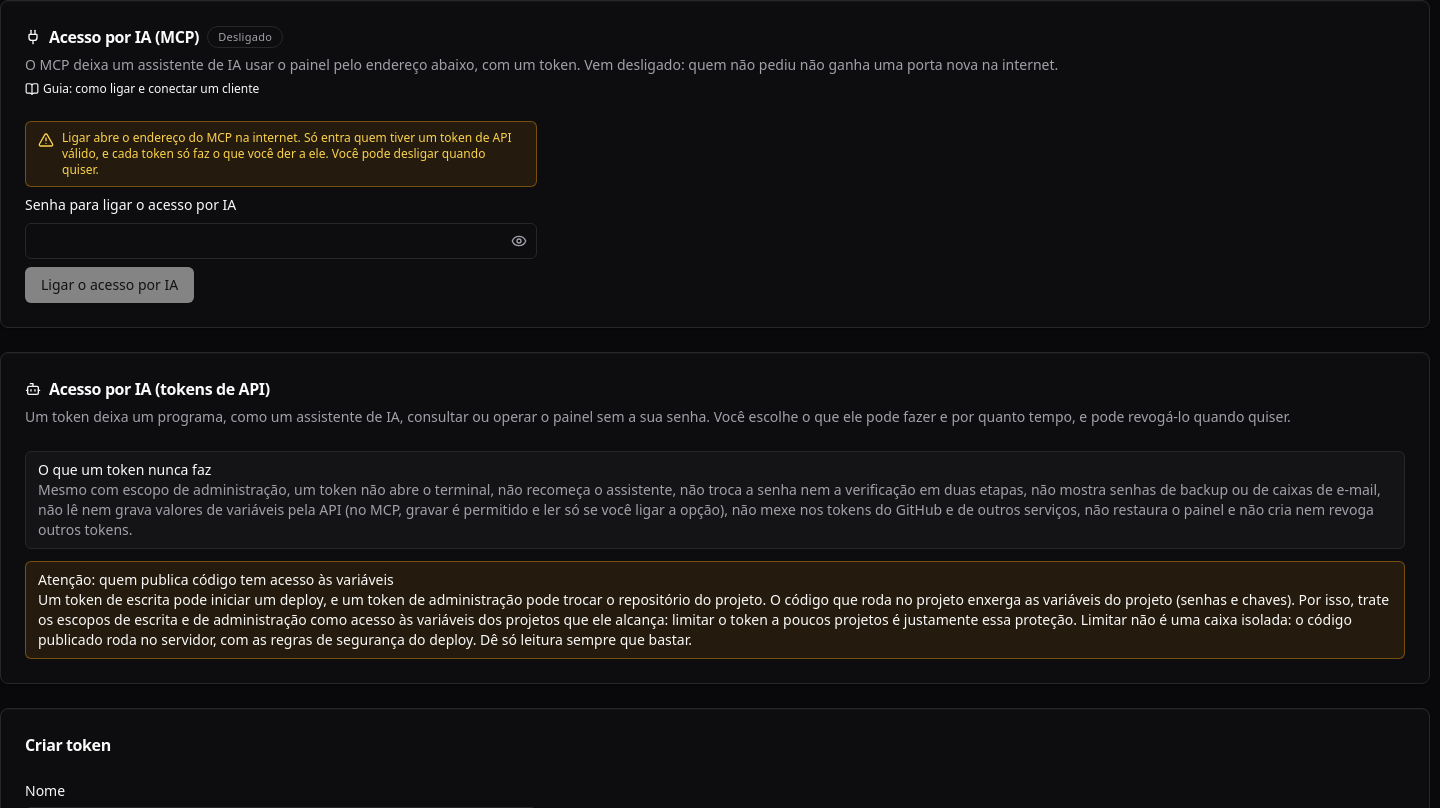
Test: MCP: liga e desliga › vem desligado, com aviso, e ligar pede a senha
This screenshot has width=1440, height=808.
Expected: the text "Desligado" is shown, [207,26,283,48]
Expected: the text "abre o endereço do MCP na internet" is shown, [62,129,512,178]
Step 1. Type "MinhaSenha123" into the password field labelled "Senha para ligar o acesso por IA" → [281, 241], box [25,223,537,259]
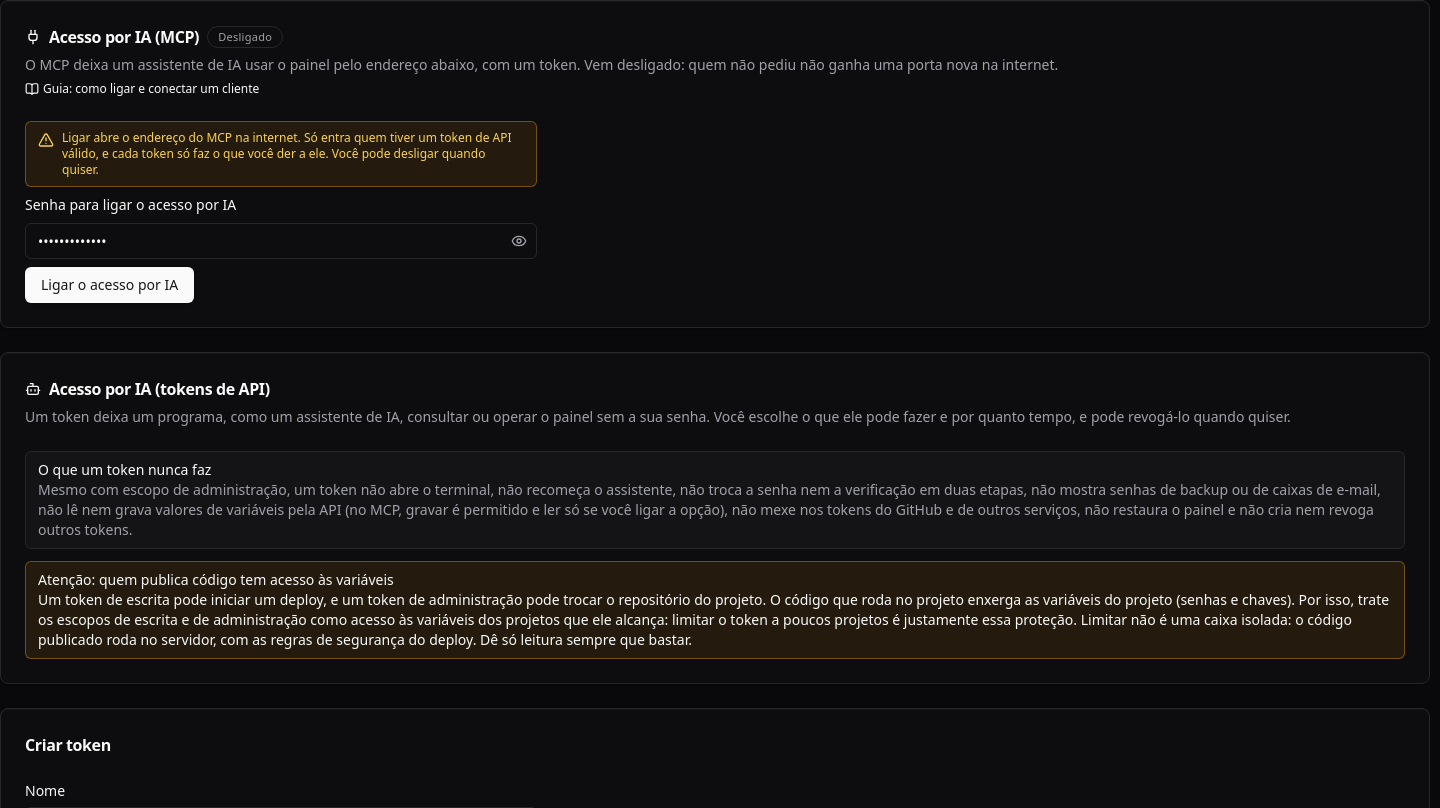
Expected: the button "Ligar o acesso por IA" is enabled
Step 2. Click the button "Ligar o acesso por IA" → [110, 285], box [25,267,194,303]
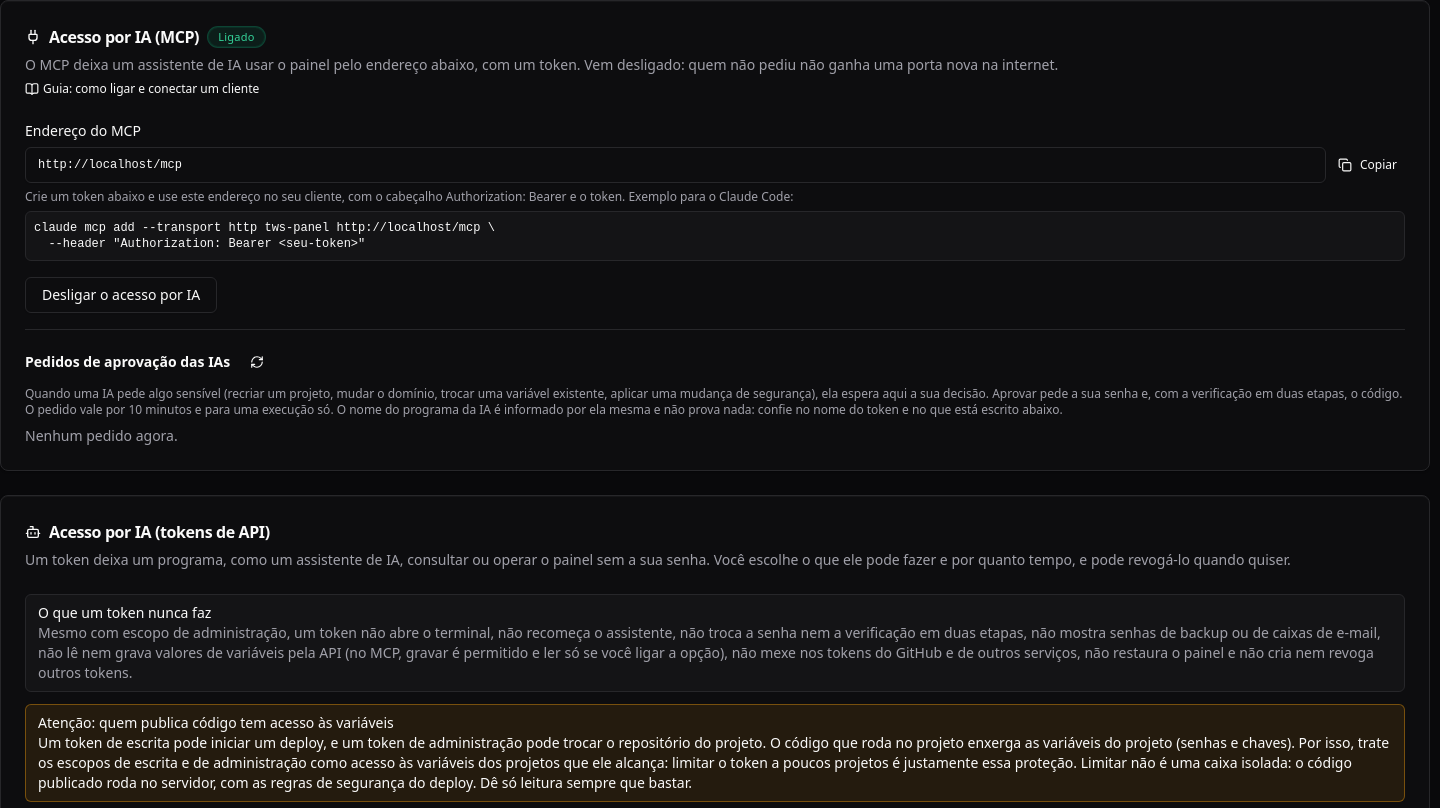
Expected: the text "Ligado" is shown, [207,26,266,48]
Expected: the text with test id "mcp-connect-example" shows "claude mcp add --transport http", [34,221,495,251]
Expected: the text "Nenhum pedido agora." is shown, [25,426,178,445]
